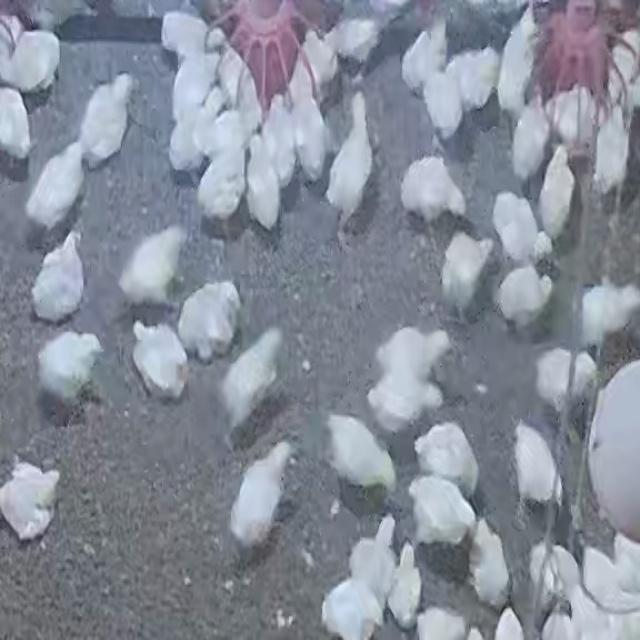chicken: (216, 323, 288, 431), (228, 442, 292, 554), (324, 92, 374, 231), (322, 413, 396, 499), (26, 140, 88, 240), (175, 278, 246, 364), (127, 317, 194, 404), (36, 329, 106, 412), (27, 233, 90, 325), (117, 225, 186, 308), (77, 74, 136, 168), (406, 474, 476, 546), (412, 422, 478, 498), (0, 459, 60, 542), (398, 154, 464, 225), (439, 231, 492, 318), (512, 421, 562, 510), (492, 263, 554, 333), (508, 82, 550, 184), (578, 281, 640, 350), (319, 576, 385, 640), (533, 346, 595, 413), (489, 192, 542, 270), (465, 519, 511, 608), (536, 144, 576, 242), (446, 46, 499, 116), (246, 132, 280, 238), (386, 541, 424, 630), (323, 16, 385, 68)
